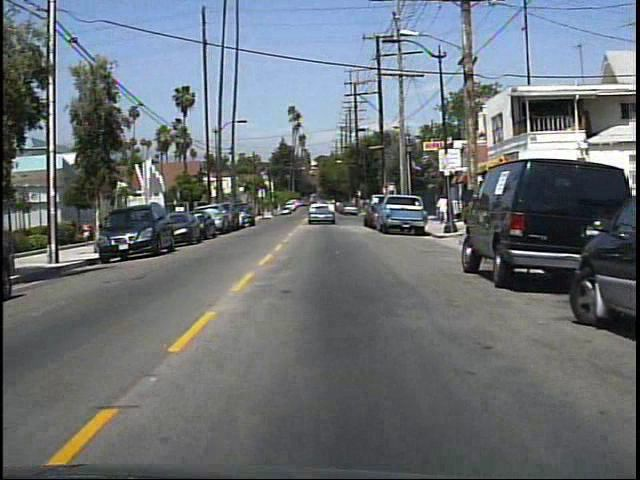person: (436, 194, 455, 227), (81, 218, 97, 246)
